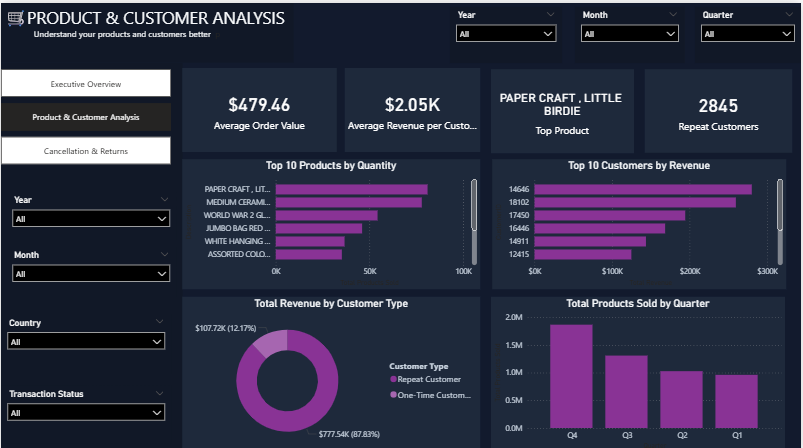

What the dashboard file says about the page in this screenshot:
{"tool":"powerbi","page":{"name":"Product & Customer Analysis","canvas":[1280,720],"ordinal":1},"visuals":[{"type":"shape","box":[0,96.7,290,623.3],"z":0},{"type":"textbox","box":[0,0,468.3,95],"z":1000},{"type":"slicer","fields":{"Values":["Date Table.Year"]},"box":[718.2,5.5,180,90],"z":2000},{"type":"slicer","fields":{"Values":["Date Table.Month"]},"box":[917.3,6.4,176.4,90],"z":3000},{"type":"slicer","fields":{"Values":["Date Table.Quarter"]},"box":[1110,6.7,170,90],"z":4000},{"type":"card","title":"Total Revenue ","fields":{"Values":["Measures_.Average Order Value"]},"box":[290,104.3,247.1,134.3],"z":5000},{"type":"card","title":"Total Revenue ","fields":{"Values":["Measures_.Average Revenue per Customer"]},"box":[550,104.3,217.1,134.3],"z":6000},{"type":"card","title":"Total Revenue ","fields":{"Values":["Measures_.Top Product"]},"box":[784.3,105.7,228.6,134.3],"z":7000},{"type":"card","title":"Total Revenue ","fields":{"Values":["Measures_.Repeat Customers"]},"box":[1030,106.2,236.2,133.8],"z":8000},{"type":"clusteredBarChart","title":"Top 10 Products by Quantity","fields":{"Category":["online_retail.Description"],"Y":["Measures_.Total Products Sold"]},"box":[290,250,476.7,208.3],"z":9000},{"type":"clusteredBarChart","title":"Top 10 Customers by Revenue","fields":{"Y":["Measures_.Total Revenue"],"Category":["online_retail.CustomerID"]},"box":[785,250,470,208.3],"z":10000},{"type":"donutChart","fields":{"Category":["online_retail.Customer Type"],"Y":["Measures_.Total Revenue"]},"box":[290,470,476.7,250],"z":11000},{"type":"clusteredColumnChart","fields":{"Category":["Date Table.Quarter"],"Y":["Measures_.Total Products Sold"]},"box":[784,470,470,250],"z":12000},{"type":"slicer","fields":{"Values":["Date Table.Year"]},"box":[8.8,301.2,272.5,77.5],"z":13000},{"type":"slicer","fields":{"Values":["Date Table.Month"]},"box":[8.8,390,272.5,80],"z":14000},{"type":"slicer","fields":{"Values":["online_retail.Country"]},"box":[0,498.8,272.5,96.2],"z":15000},{"type":"slicer","fields":{"Values":["online_retail.Transaction Status"]},"box":[0,611.2,272.5,92.5],"z":16000},{"type":"pageNavigator","box":[0,106.2,272.5,153.8],"z":16001}]}

Visuals, with their boxes in screenshot pixels (x1, y1, x2, y2), scaled from the page's 1280x720 canvas onto the 803x448 screenshot:
shape: {"left": 0, "top": 60, "right": 182, "bottom": 447}
textbox: {"left": 0, "top": 0, "right": 294, "bottom": 59}
slicer - Date Table.Year: {"left": 451, "top": 3, "right": 563, "bottom": 59}
slicer - Date Table.Month: {"left": 575, "top": 4, "right": 686, "bottom": 60}
slicer - Date Table.Quarter: {"left": 696, "top": 4, "right": 802, "bottom": 60}
"Total Revenue " card: {"left": 182, "top": 65, "right": 337, "bottom": 148}
"Total Revenue " card: {"left": 345, "top": 65, "right": 481, "bottom": 148}
"Total Revenue " card: {"left": 492, "top": 66, "right": 635, "bottom": 149}
"Total Revenue " card: {"left": 646, "top": 66, "right": 794, "bottom": 149}
"Top 10 Products by Quantity" clusteredBarChart: {"left": 182, "top": 156, "right": 481, "bottom": 285}
"Top 10 Customers by Revenue" clusteredBarChart: {"left": 492, "top": 156, "right": 787, "bottom": 285}
donutChart - online_retail.Customer Type x Measures_.Total Revenue: {"left": 182, "top": 292, "right": 481, "bottom": 447}
clusteredColumnChart - Date Table.Quarter x Measures_.Total Products Sold: {"left": 492, "top": 292, "right": 787, "bottom": 447}
slicer - Date Table.Year: {"left": 6, "top": 187, "right": 176, "bottom": 236}
slicer - Date Table.Month: {"left": 6, "top": 243, "right": 176, "bottom": 292}
slicer - online_retail.Country: {"left": 0, "top": 310, "right": 171, "bottom": 370}
slicer - online_retail.Transaction Status: {"left": 0, "top": 380, "right": 171, "bottom": 438}
pageNavigator: {"left": 0, "top": 66, "right": 171, "bottom": 162}
